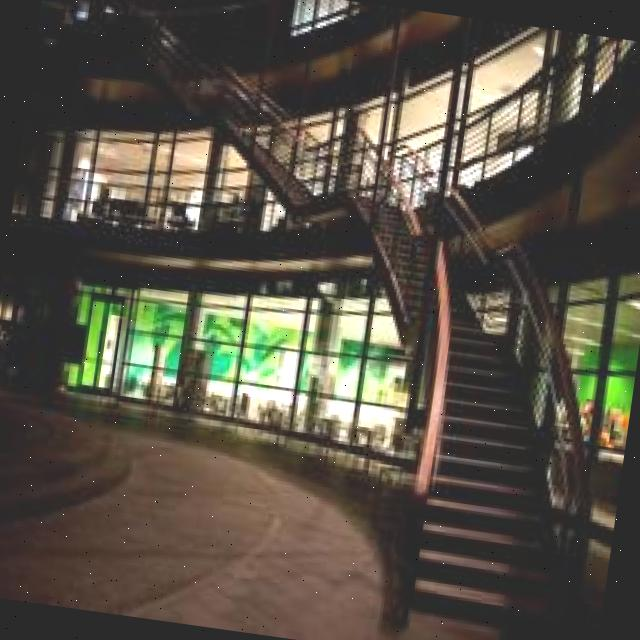stairs: (230, 104, 640, 640)
